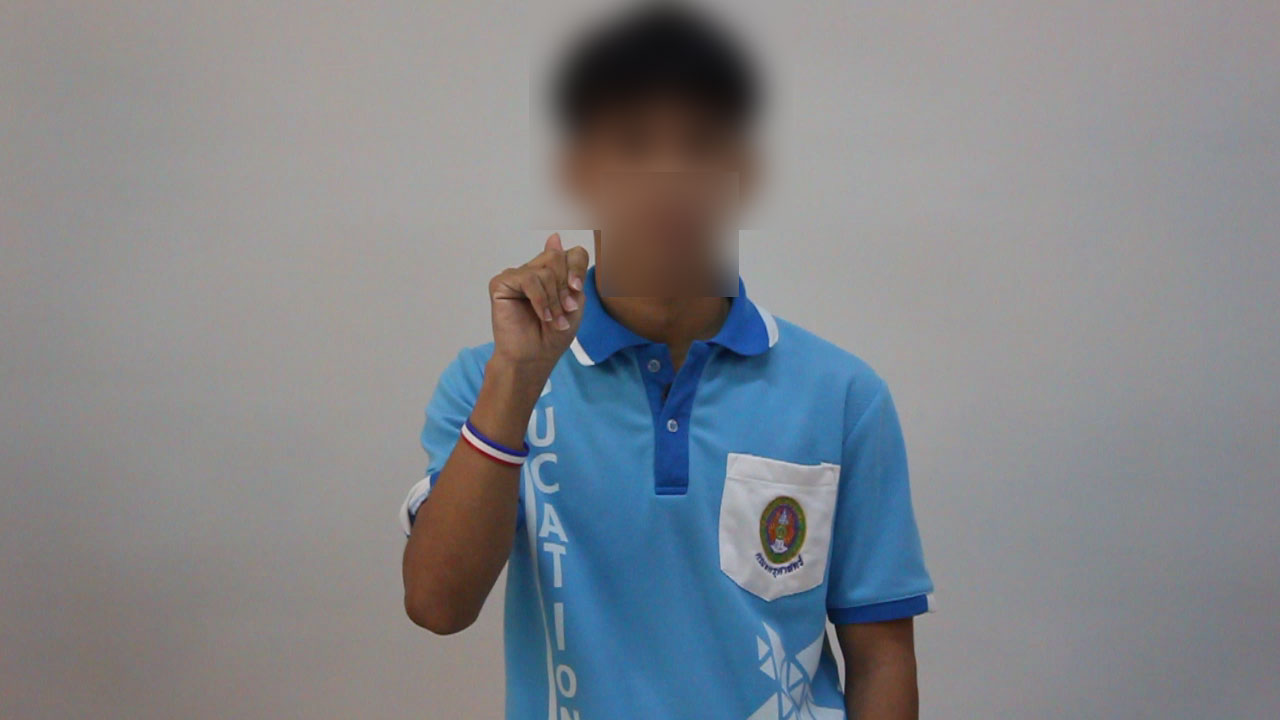tor: (473, 221, 612, 391)
